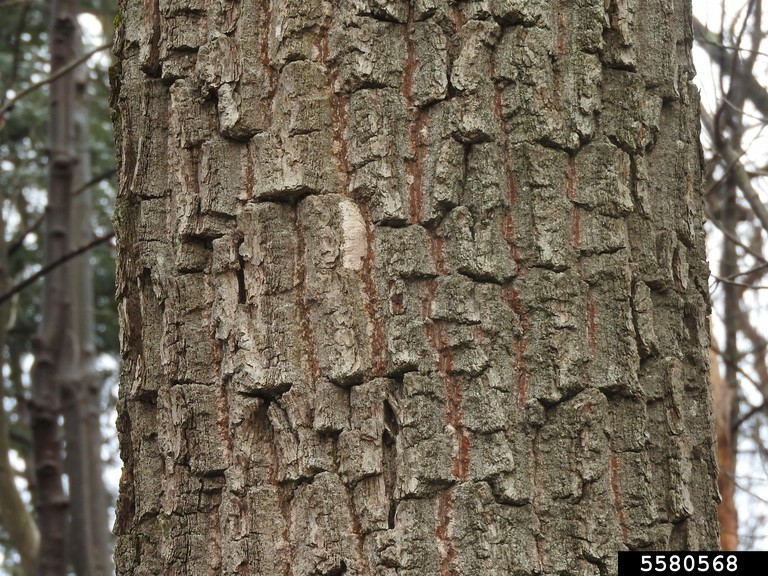egg masses: (339, 197, 366, 272)
